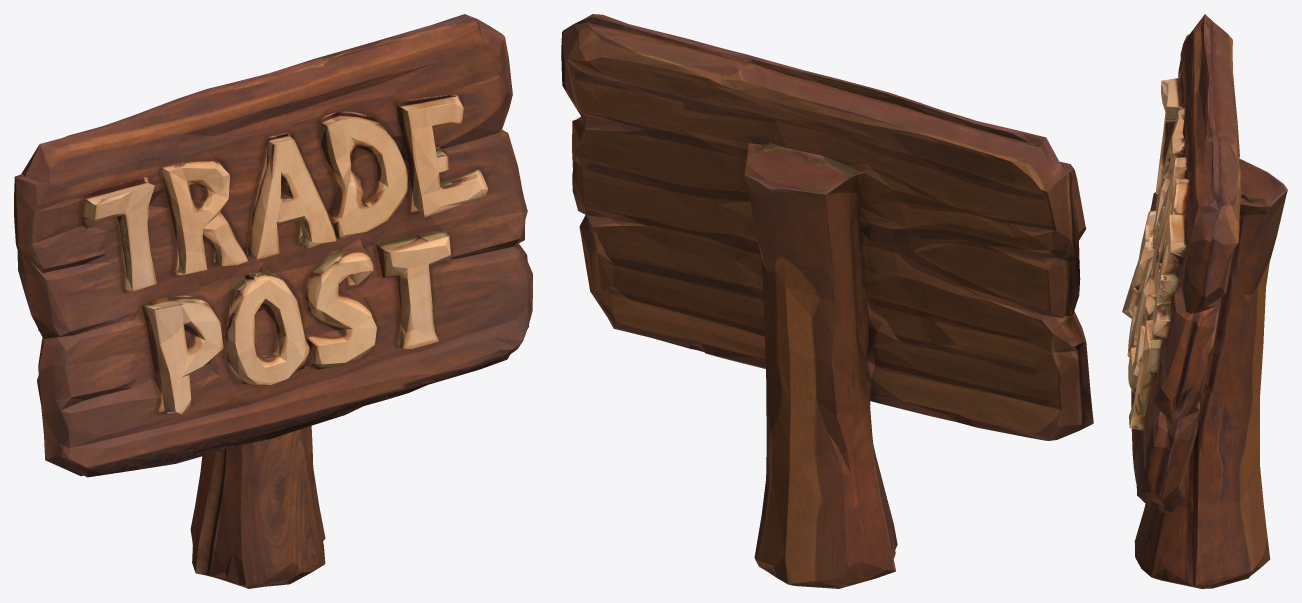
File: Trade_Post_Sign_0621175717_texture.fbx
3 renders of one model, left to right at view 1: azimuth 30°, elevation 25°; view 2: azimuth 150°, elevation 25°; view 3: azimuth 270°, elevation 25°, orthographic. The views are drawn at different scales.
Visible parts, largest first — view 1: temp; view 2: temp; view 3: temp.
Boxes of the visible parts, x1,y1,x2,y2 form: temp: (14,14,532,588); temp: (561,14,1093,588); temp: (1122,14,1287,588).
Size of the model in its own units: 200 by 187 by 59.85.
Materials: 1 (1 with a texture image).
